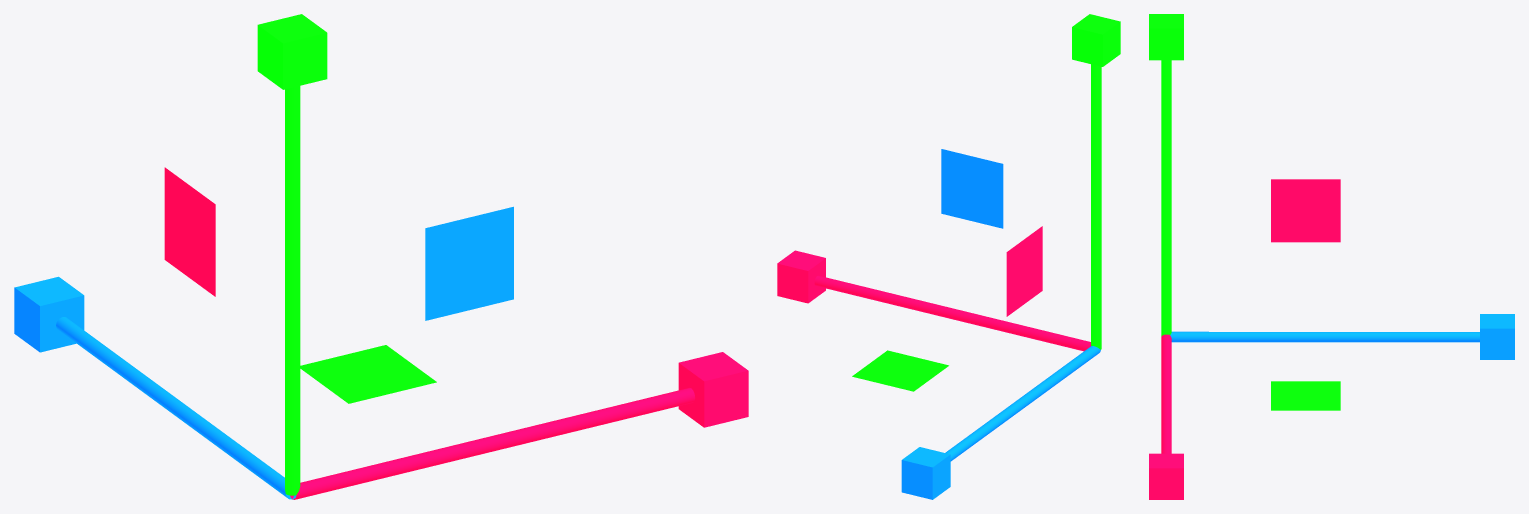
File: gizmo_scale.glb
3 renders of one model, left to right at view 1: azimuth 30°, elevation 25°; view 2: azimuth 150°, elevation 25°; view 3: azimuth 270°, elevation 25°, orthographic. The views are drawn at different scales.
Parts seen in each view (by area): view 1: scale_y, scale_x, scale_z, scale_y_plane, scale_x_plane, scale_z_plane; view 2: scale_y, scale_x, scale_z, scale_y_plane, scale_x_plane, scale_z_plane; view 3: scale_z, scale_y, scale_x_plane, scale_x, scale_z_plane.
Boxes of the visible parts, x1,y1,x2,y2 form: scale_y: (257, 14, 327, 495); scale_x: (290, 352, 748, 499); scale_z: (14, 276, 296, 499); scale_y_plane: (425, 206, 513, 320); scale_x_plane: (164, 167, 215, 296); scale_z_plane: (300, 345, 436, 403); scale_y: (1072, 14, 1120, 349); scale_x: (777, 250, 1090, 351); scale_z: (901, 346, 1100, 499); scale_y_plane: (941, 149, 1003, 228); scale_x_plane: (1006, 226, 1042, 316); scale_z_plane: (852, 350, 948, 391); scale_z: (1170, 314, 1514, 359); scale_y: (1149, 14, 1183, 336); scale_x_plane: (1271, 179, 1340, 242); scale_x: (1149, 334, 1183, 499); scale_z_plane: (1271, 381, 1340, 410).
Bounding box in the file's own units: 1.05 × 1.05 × 1.05.
